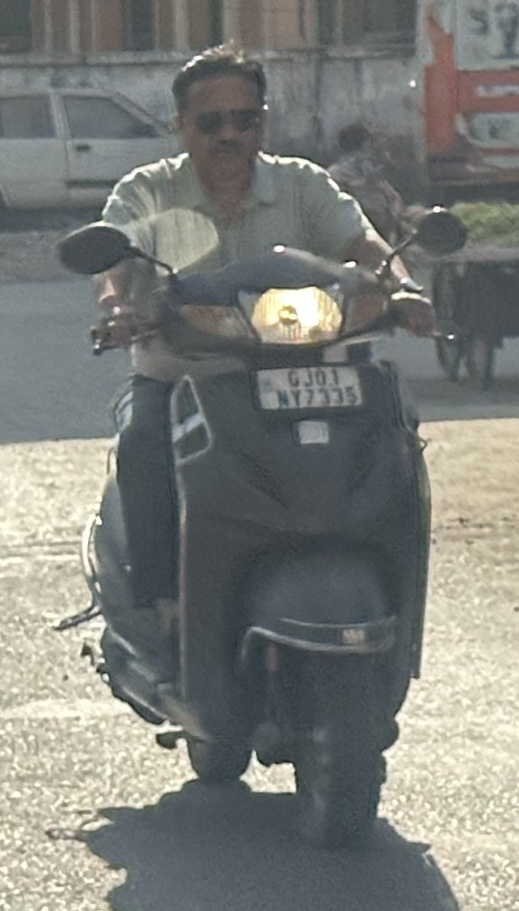BikeWithRider: (41, 35, 477, 859)
NoHelmet: (156, 40, 283, 191)
